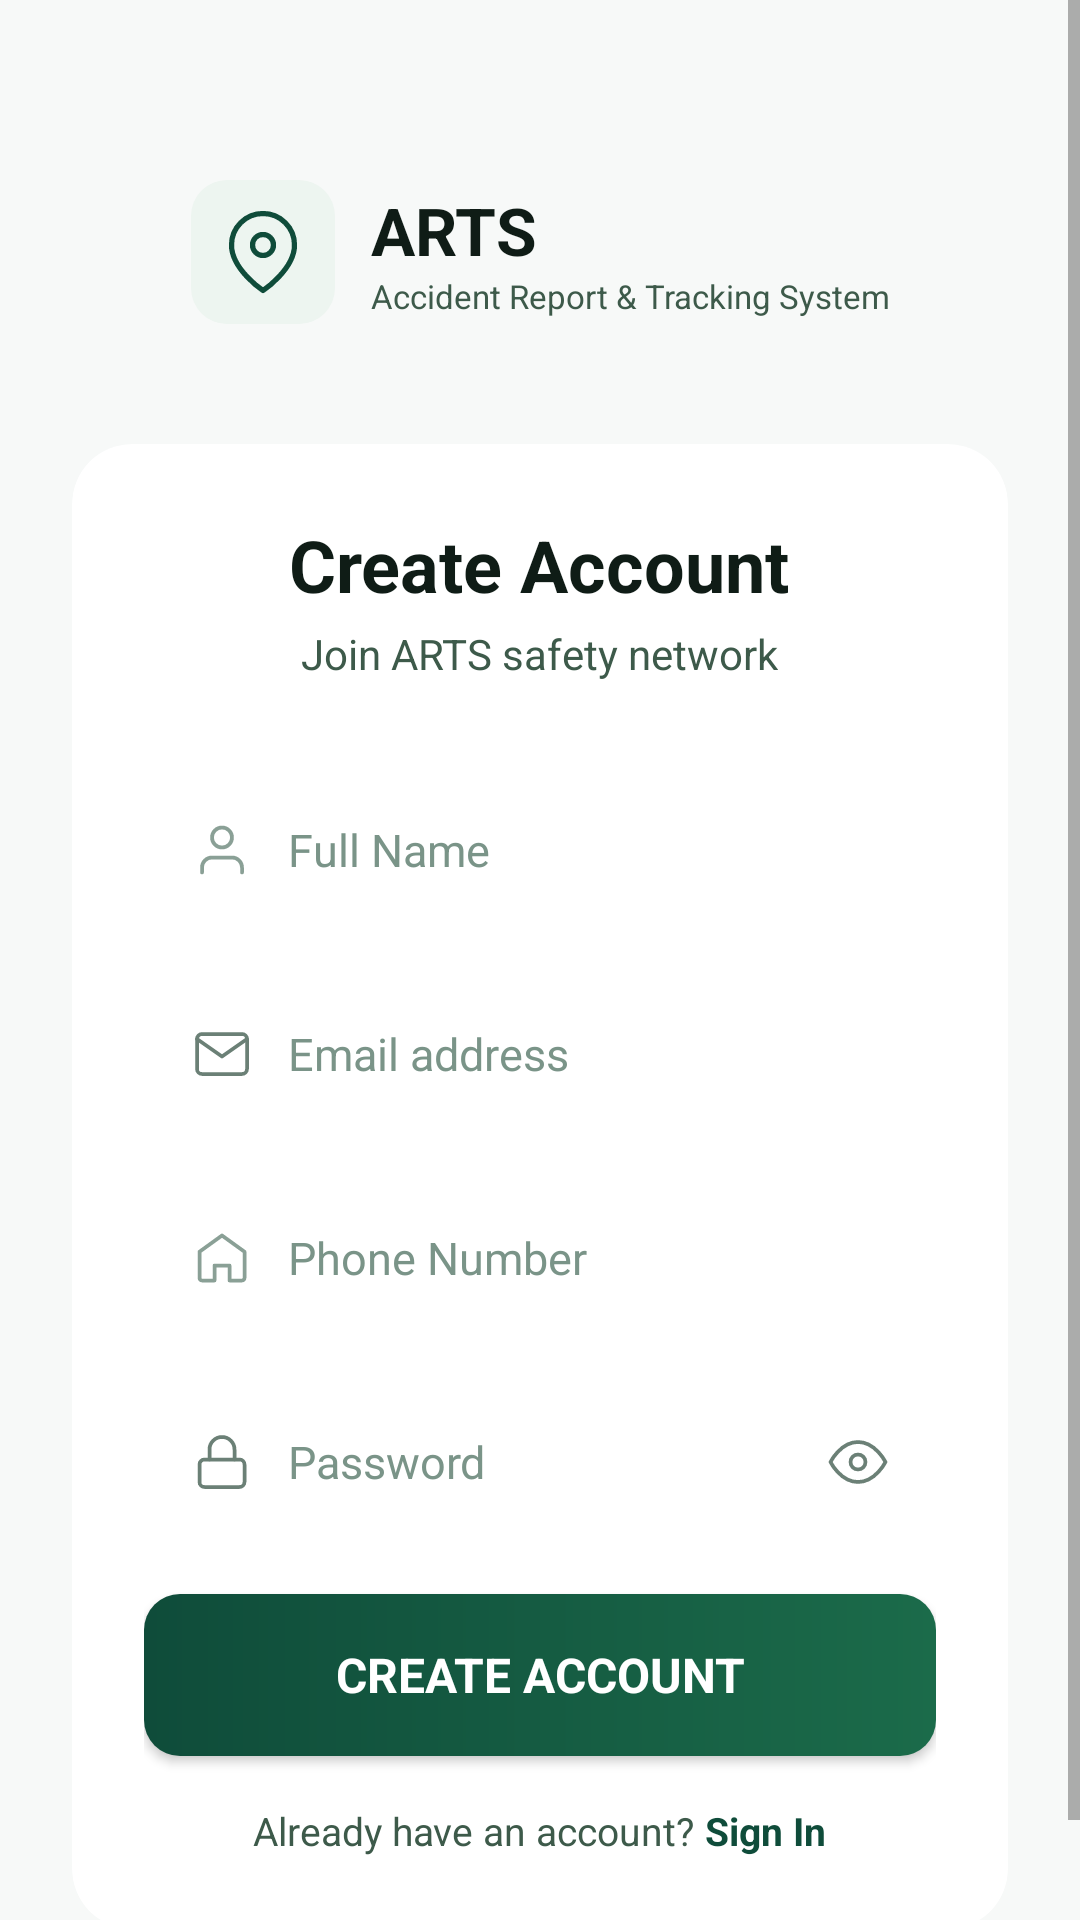

Named icons in this screenshot (1080x1920) and their centers, point (x, y):
eye: point (858, 1462)
home: point (222, 1258)
location: point (263, 252)
lock: point (222, 1462)
profile: point (222, 849)
